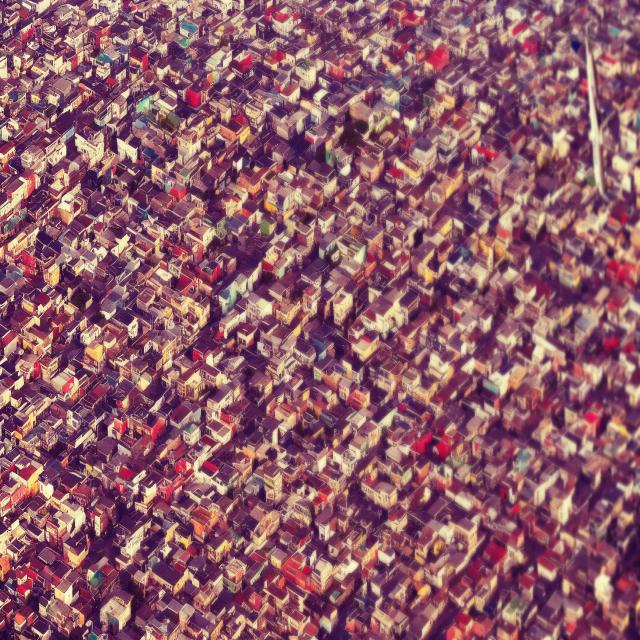airplane: (585, 41, 616, 204)
